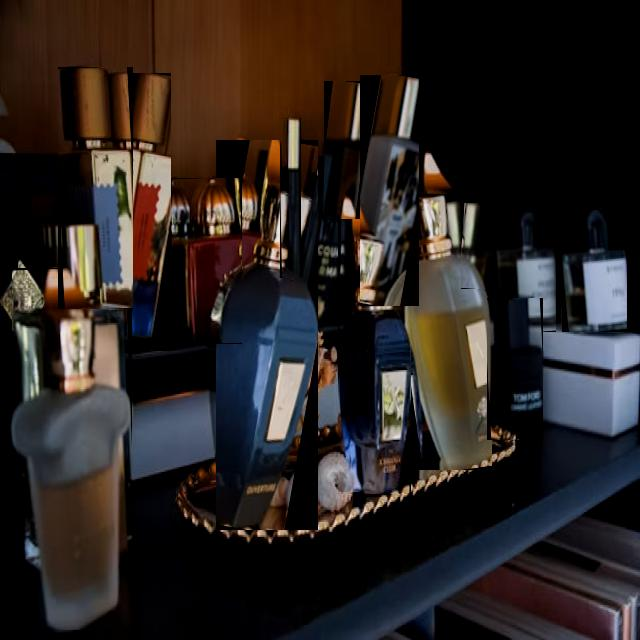Bottle: (12, 268, 132, 630), (217, 140, 317, 530), (404, 195, 491, 470), (339, 198, 410, 493), (58, 67, 133, 309), (115, 74, 170, 350), (47, 223, 130, 390), (360, 75, 419, 305), (172, 178, 242, 344), (563, 210, 627, 332), (488, 298, 542, 440), (302, 157, 347, 325), (495, 210, 555, 324), (325, 82, 362, 221), (325, 82, 362, 219), (281, 119, 300, 277), (461, 203, 492, 289)
